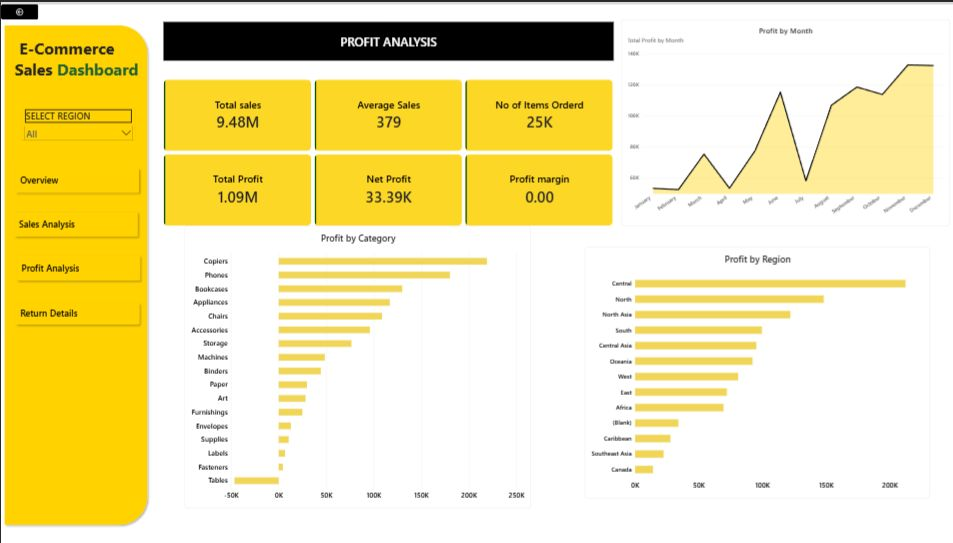

What the dashboard file says about the page in this screenshot:
{"tool":"powerbi","page":{"name":"Profit Analysis","canvas":[2560,1440],"ordinal":2},"visuals":[{"type":"actionButton","box":[0,0,100,40],"z":12},{"type":"cardVisual","fields":{"Data":["Orders.Total sale","Orders.Average Sale","Orders.No of Items Orderd","Orders.Total Profit","Orders.Net Profit","Orders.Profit margin"]},"box":[433.3,200,1200,390],"z":16},{"type":"lineChart","title":"Profit by Month","fields":{"Category":["Orders.Order Date.Variation.Date Hierarchy.Month"],"Y":["Orders.Total Profit"]},"box":[1653.3,40,876.7,550],"z":17},{"type":"clusteredBarChart","title":"Profit by Category","fields":{"Category":["Orders.Sub-Category"],"Y":["Sum(Orders.Profit)"]},"box":[490,590,923.3,753.3],"z":18},{"type":"clusteredBarChart","title":"Profit by Region","fields":{"Category":["People.Region"],"Y":["Orders.Total Profit"]},"box":[1556.7,646.7,920,670],"z":19},{"type":"shape","box":[0,46.7,400,1350],"z":20},{"type":"textbox","box":[35.3,86.6,349.9,134],"z":21},{"type":"slicer","fields":{"Values":["Orders.Region"]},"box":[57.3,281.3,300,81.1],"z":22},{"type":"actionButton","box":[30,786.7,348.6,75.7],"z":23},{"type":"actionButton","box":[26.7,543.3,347.5,85],"z":24},{"type":"actionButton","box":[33.3,660,347.5,85],"z":25},{"type":"actionButton","box":[30,426.7,347.5,85],"z":26},{"type":"shape","box":[433.3,46.7,1200,103.3],"z":27}]}

Visuals, with their boxes on the page's 2560x1440 design canvas (x1, y1, x2, y2). These are canvas units, not pixel positions in the 953x543 screenshot, which may show the page scaled, cropped or inside an application window:
actionButton: select_region(0, 0, 100, 40)
cardVisual - Orders.Total sale x Orders.Average Sale: select_region(433, 200, 1633, 590)
"Profit by Month" lineChart: select_region(1653, 40, 2530, 590)
"Profit by Category" clusteredBarChart: select_region(490, 590, 1413, 1343)
"Profit by Region" clusteredBarChart: select_region(1557, 647, 2477, 1317)
shape: select_region(0, 47, 400, 1397)
textbox: select_region(35, 87, 385, 221)
slicer - Orders.Region: select_region(57, 281, 357, 362)
actionButton: select_region(30, 787, 379, 862)
actionButton: select_region(27, 543, 374, 628)
actionButton: select_region(33, 660, 381, 745)
actionButton: select_region(30, 427, 378, 512)
shape: select_region(433, 47, 1633, 150)
